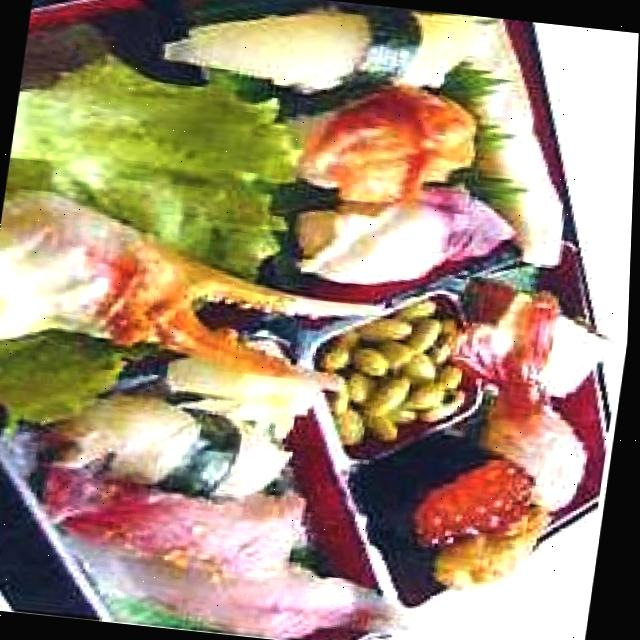寿司卷物: (12, 0, 640, 640)
